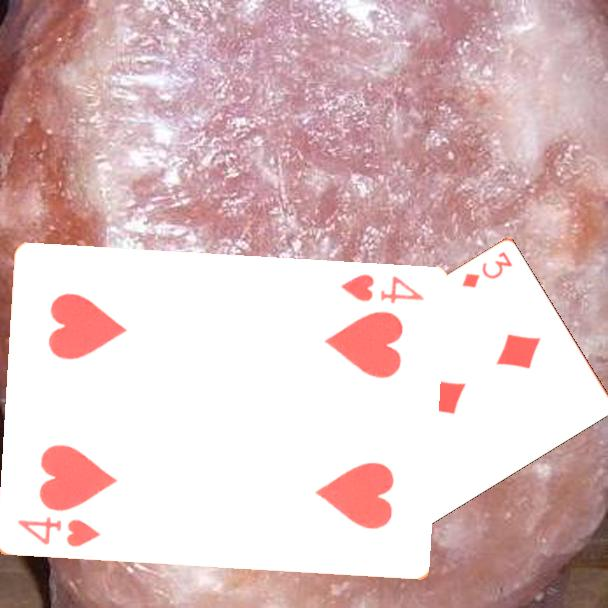d03: (459, 247, 515, 291)
h04: (13, 514, 102, 551), (337, 271, 427, 307)
